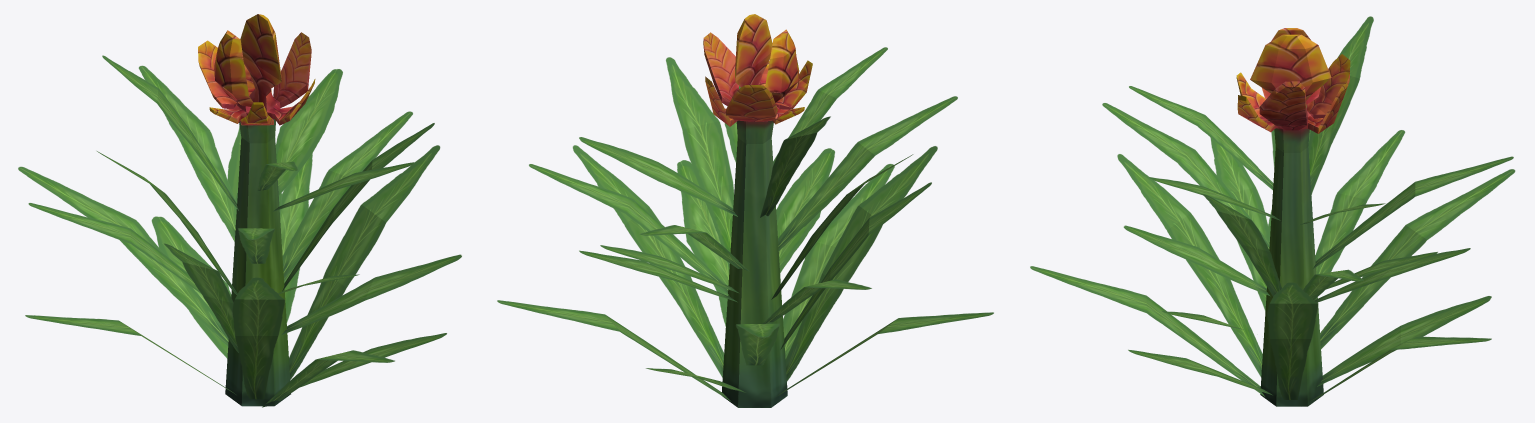
Rendered from plant_flower.glb.
3 views of the same model, side by side, from view 1: azimuth 30°, elevation 25°; view 2: azimuth 150°, elevation 25°; view 3: azimuth 270°, elevation 25° (orthographic). The views are drawn at different scales.
Parts seen in each view (by area): view 1: Small Plant 02; view 2: Small Plant 02; view 3: Small Plant 02.
Boxes of the visible parts, box(x1,y1,x2,y2) form: Small Plant 02: box(18, 14, 461, 407); Small Plant 02: box(497, 14, 993, 407); Small Plant 02: box(1030, 16, 1515, 406).
Size of the model in its own units: 57.47 by 48.78 by 59.23.
Materials: 1 (1 with a texture image).
